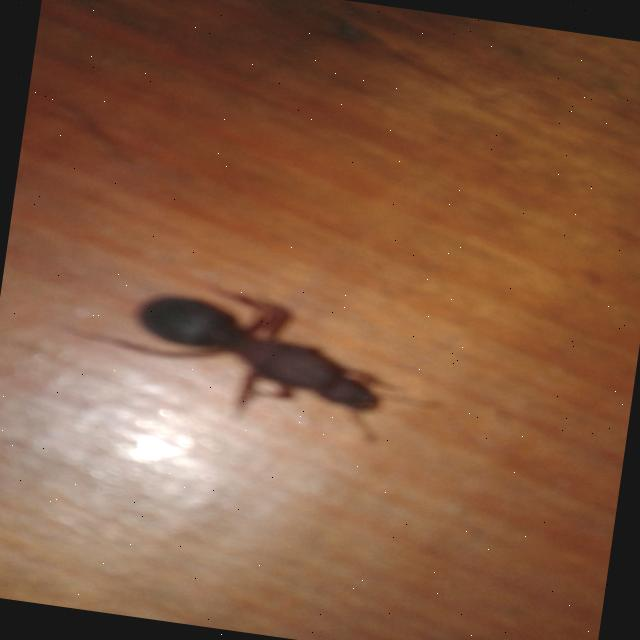Alive-Female-Dealate: (54, 265, 452, 451)
